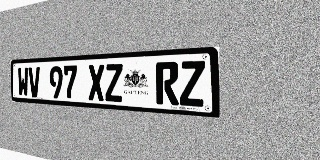7: (63, 65, 78, 99)
9: (49, 66, 63, 99)
R: (156, 61, 179, 105)
V: (28, 67, 40, 97)
W: (17, 67, 29, 97)
X: (88, 64, 105, 101)
Z: (179, 60, 205, 107), (105, 64, 123, 102)
